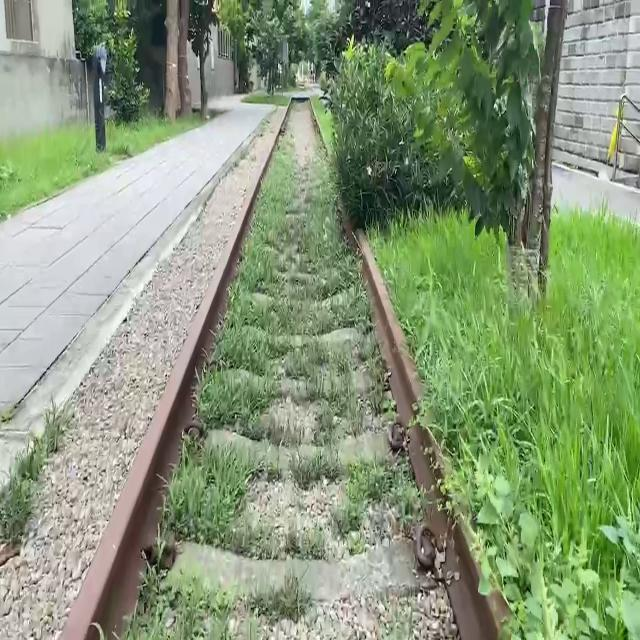rail-track: (125, 101, 458, 639)
